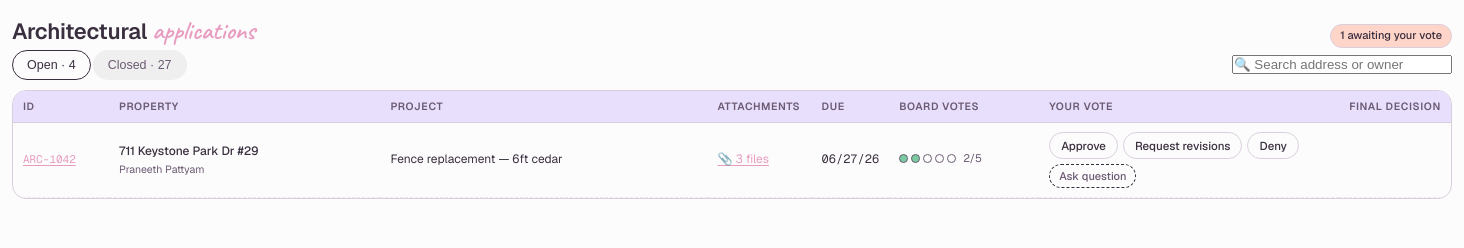
it: ApplicationsPageComponent (027 US1/US2) › shows "you voted to request revisions" and the formal-denial note after voting (US2-S4)
The image size is (1464, 248).
What coordinates should you click on to do the following:
click the button "Request revisions"
I would click on:
 (1183, 145)
Its box is x1=1123 y1=132 x2=1242 y2=159.
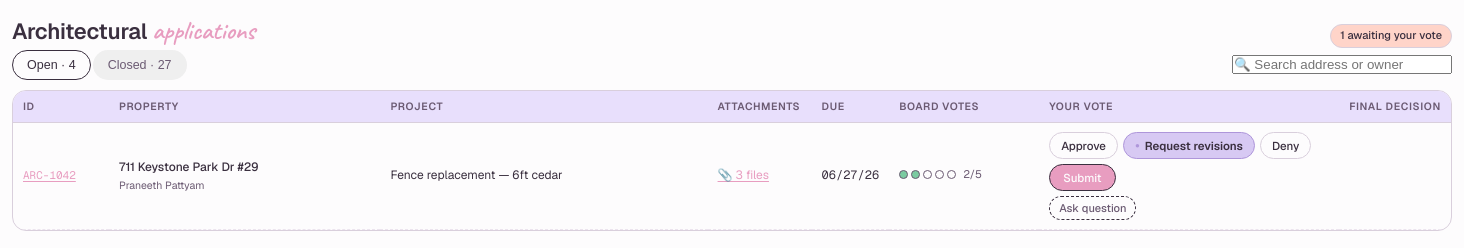
What coordinates should you click on to do the following:
click the button "Submit"
I would click on:
 (1082, 177)
Its box is x1=1049 y1=164 x2=1116 y2=191.
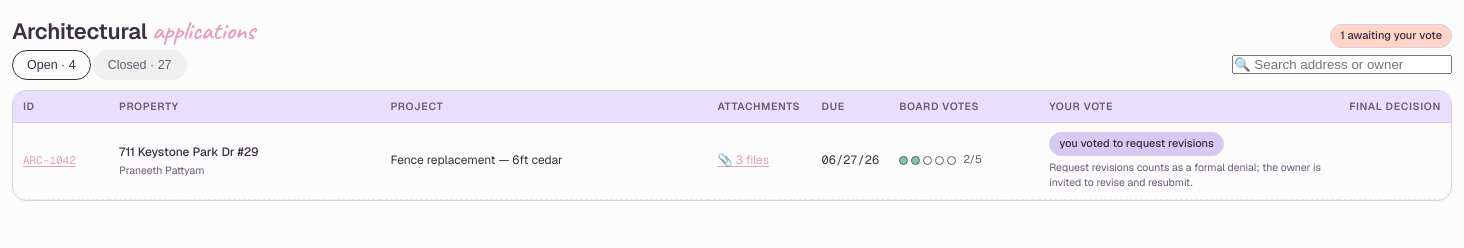
Expected: the text "you voted to request revisions" is shown, x1=1049 y1=132 x2=1224 y2=156
Expected: the text "Request revisions counts as a formal denial; the owner is invited to revise and resubmit." is shown, x1=1049 y1=160 x2=1321 y2=189
